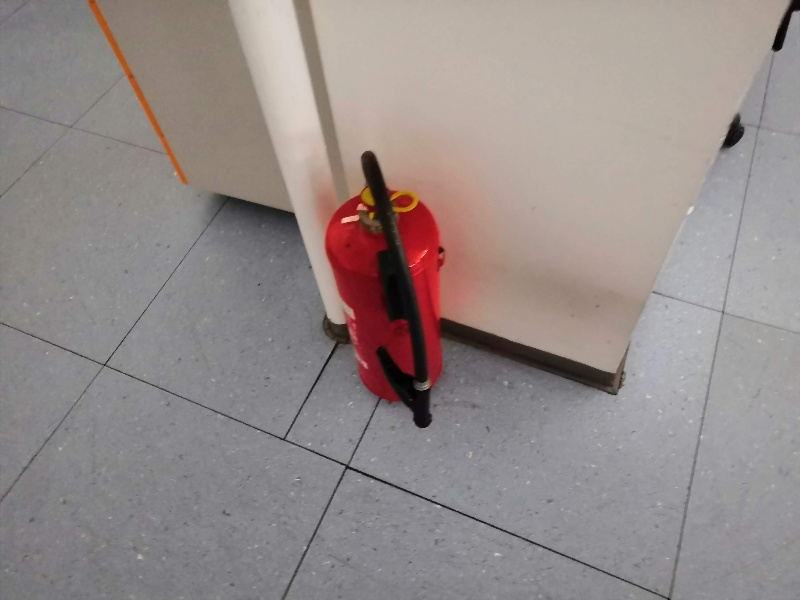vataparat: (325, 152, 445, 429)
